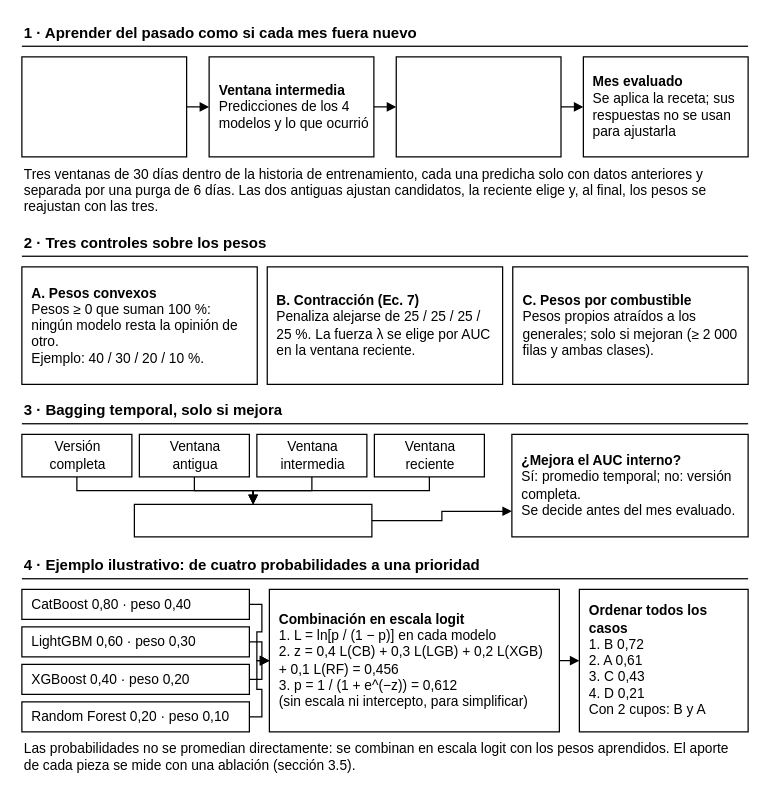
Image size: 770x798. Some labels were removed from this diagram. The shapes that lost their labels are listed below. From the top down, each one's centre as x and y in pixels, then its label:
(x=104, y=106): Ventana antigua Predicciones de los 4 modelos y lo que ocurrió
(x=478, y=106): Ventana reciente Elige los controles por AUC
(x=252, y=520): Promedio de probabilidades
